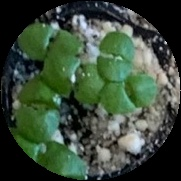Basil: (11, 135, 76, 179), (21, 22, 81, 64), (17, 79, 57, 139), (73, 71, 125, 112), (107, 74, 154, 114), (98, 33, 132, 81)
